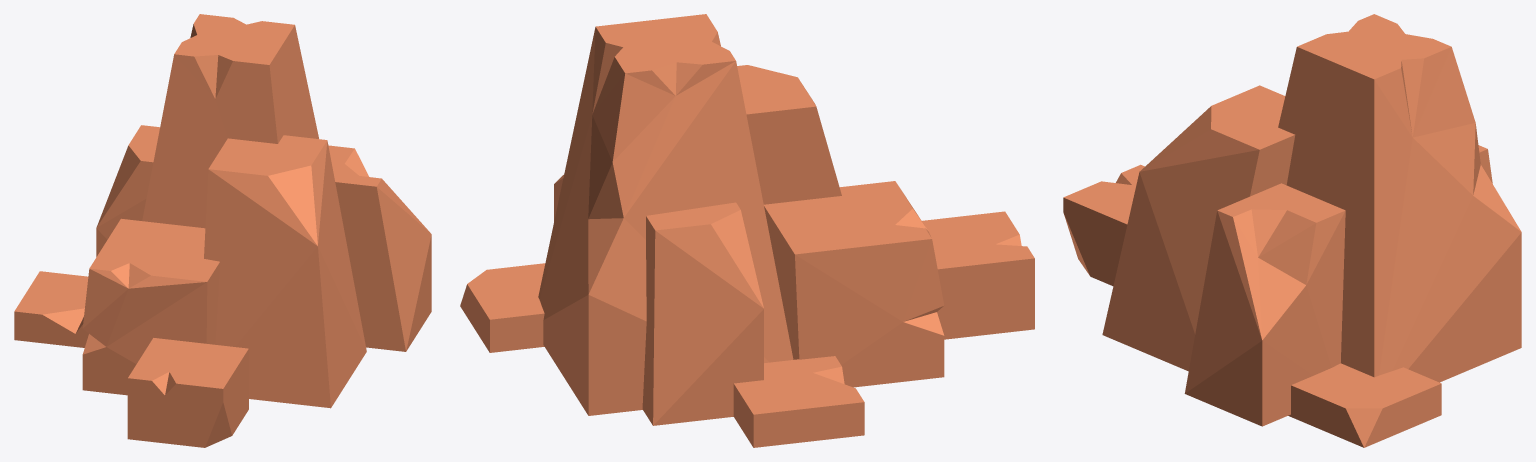
File: rock1.glb
3 views of the same model, side by side, from view 1: azimuth 30°, elevation 25°; view 2: azimuth 150°, elevation 25°; view 3: azimuth 270°, elevation 25° (orthographic). The views are drawn at different scales.
Visible parts, largest first — view 1: rock_02; view 2: rock_02; view 3: rock_02.
Boxes of the visible parts, x1,y1,x2,y2 form: rock_02: (14,14,431,447); rock_02: (460,14,1034,447); rock_02: (1063,14,1521,447).
Bounding box in the file's own units: 75.68 × 50.21 × 68.83.
1 material, 1 textured.
